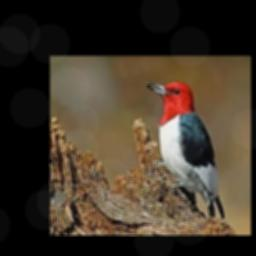Woodpecker: (146, 81, 225, 220)
